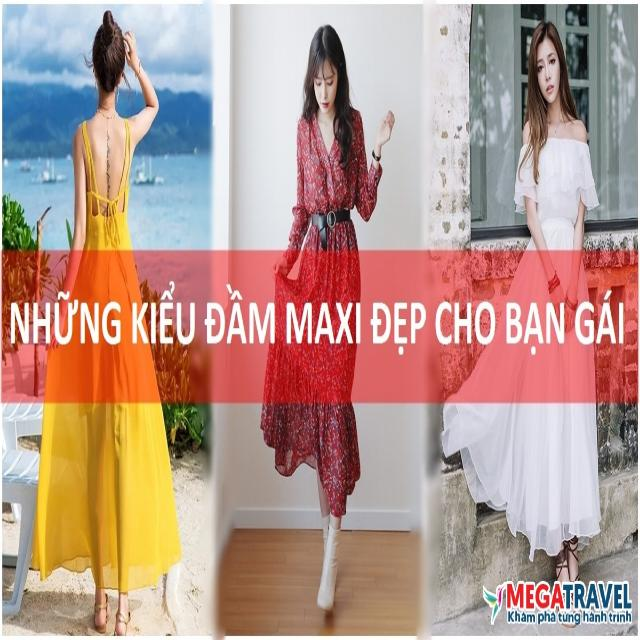clothes: (42, 121, 182, 612), (470, 120, 603, 548), (258, 101, 390, 506)
